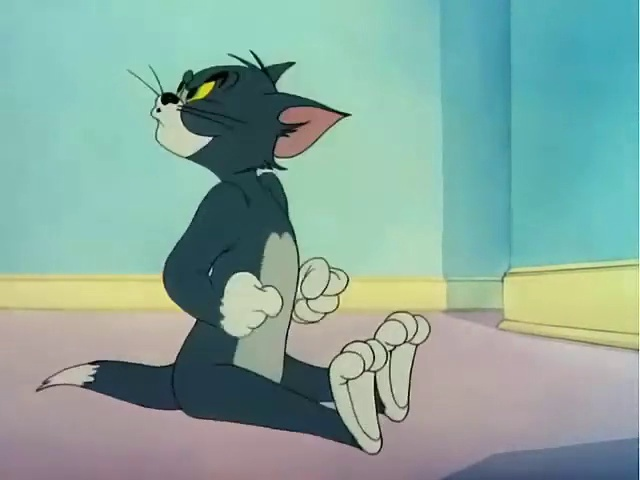tom: (29, 28, 442, 475)
